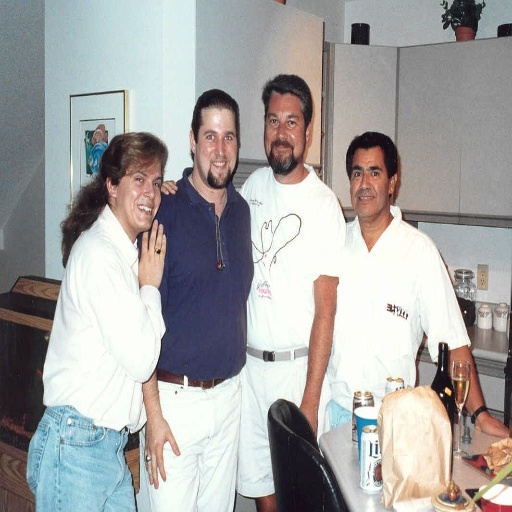hand: (143, 416, 180, 487), (137, 216, 167, 288), (474, 411, 510, 437), (300, 403, 316, 438), (159, 178, 179, 195)
